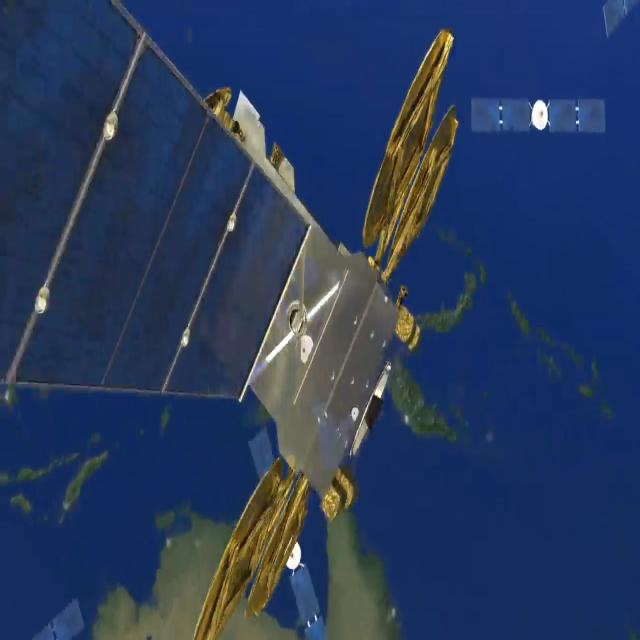satellite: (0, 0, 477, 640)
